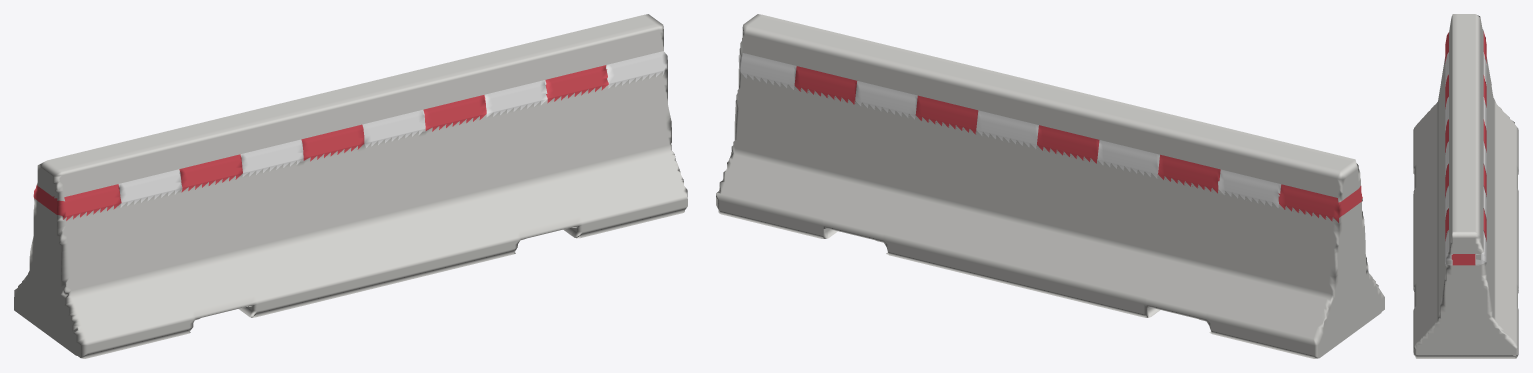
File: jersey_barrier.glb
3 views of the same model, side by side, from view 1: azimuth 30°, elevation 25°; view 2: azimuth 150°, elevation 25°; view 3: azimuth 270°, elevation 25° (orthographic). The views are drawn at different scales.
Parts seen in each view (by area): view 1: IronSmith model; view 2: IronSmith model; view 3: IronSmith model.
Part boxes in pixels (left/top/right/bottom): IronSmith model: left=14, top=14, right=687, bottom=358; IronSmith model: left=716, top=14, right=1384, bottom=358; IronSmith model: left=1413, top=14, right=1518, bottom=358.
Bounding box in the file's own units: 30 × 8 × 6.
